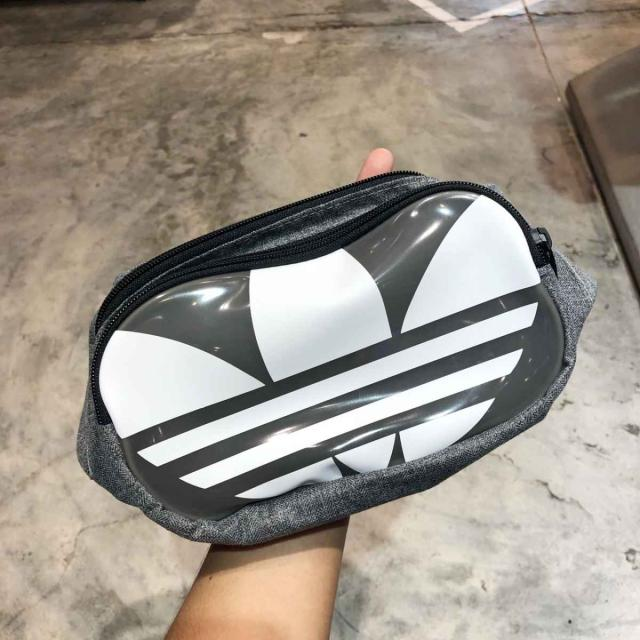Handbag: (74, 166, 618, 559)
